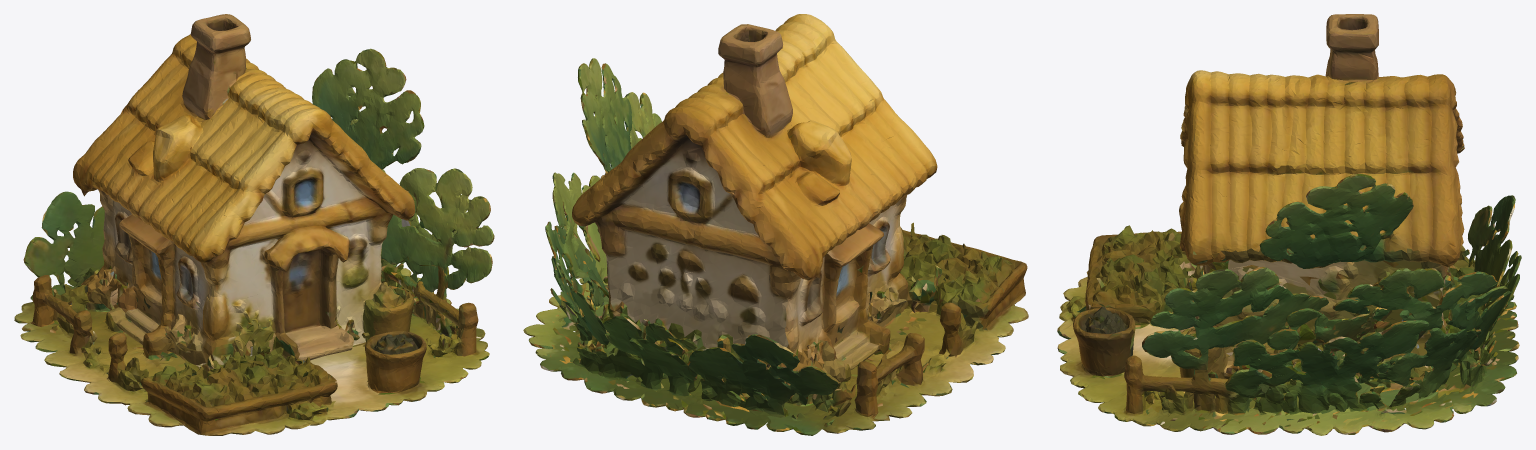
The model's file is wc-home_small-paint.glb.
3 renders of one model, left to right at view 1: azimuth 30°, elevation 25°; view 2: azimuth 150°, elevation 25°; view 3: azimuth 270°, elevation 25°, orthographic. The views are drawn at different scales.
Visible parts, largest first — view 1: geometry_0; view 2: geometry_0; view 3: geometry_0.
Part boxes in pixels (x1,y1,x2,y2): geometry_0: (14, 14, 494, 435); geometry_0: (523, 14, 1028, 435); geometry_0: (1057, 14, 1521, 435).
Size of the model in its own units: 1.99 by 1.51 by 2.
1 material, 1 textured.
